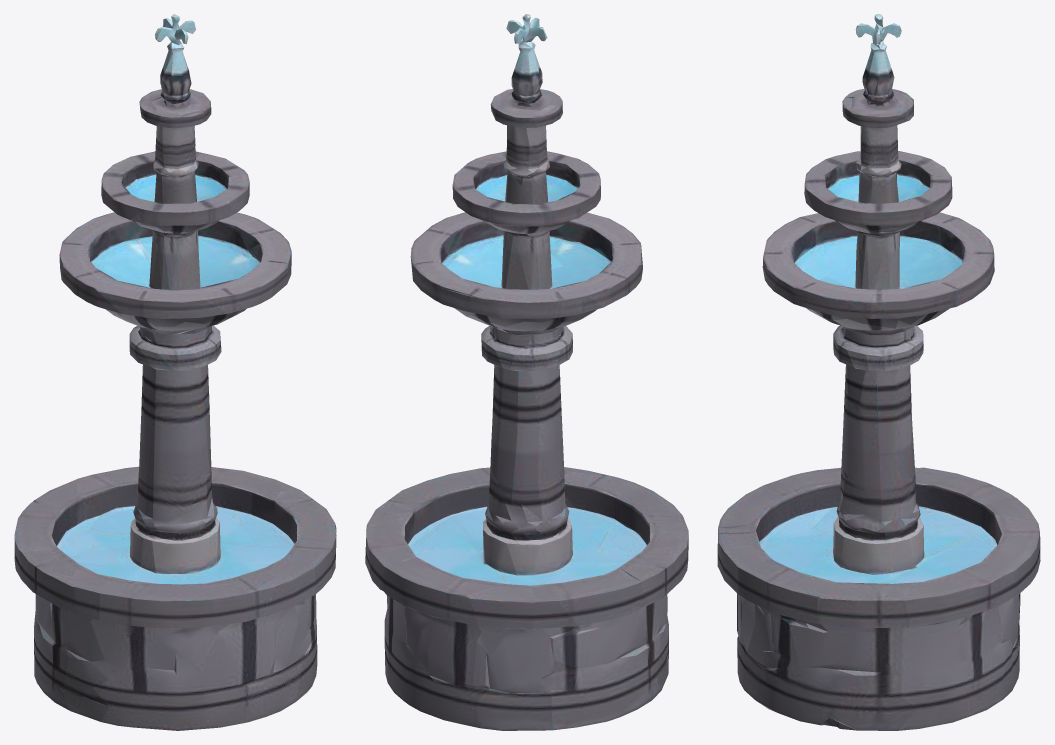
Rendered from fountainstatue.glb.
The picture shows the model from 3 angles, left to right: view 1: azimuth 30°, elevation 25°; view 2: azimuth 150°, elevation 25°; view 3: azimuth 270°, elevation 25°; orthographic projection.
Size of the model in its own units: 0.8438 by 1.9 by 0.8446.
1 material, 1 textured.
